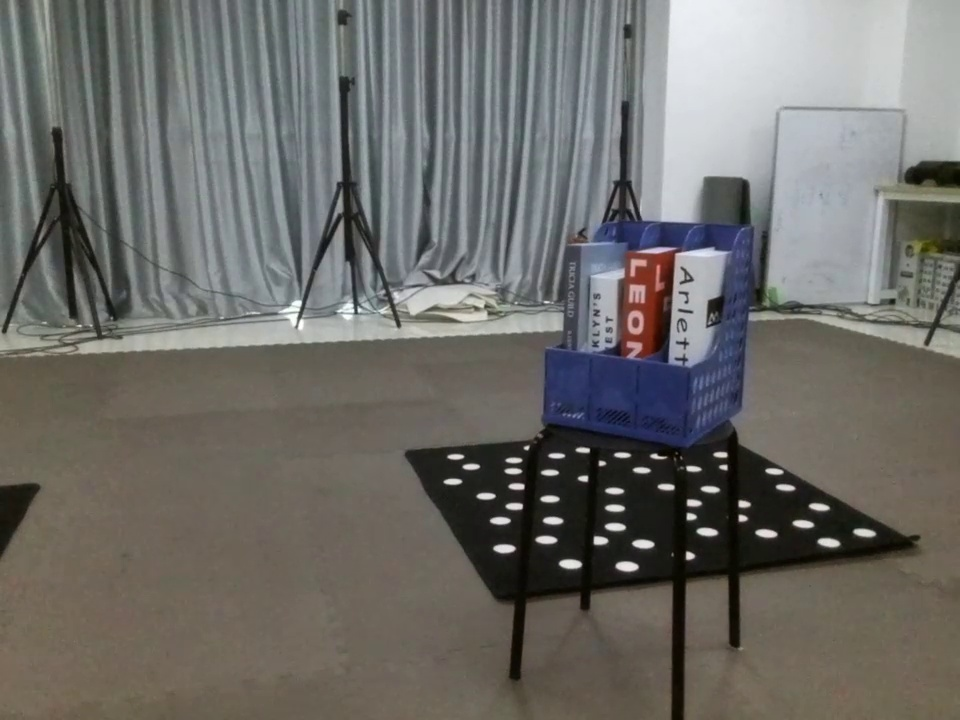files: (537, 215, 762, 449)
